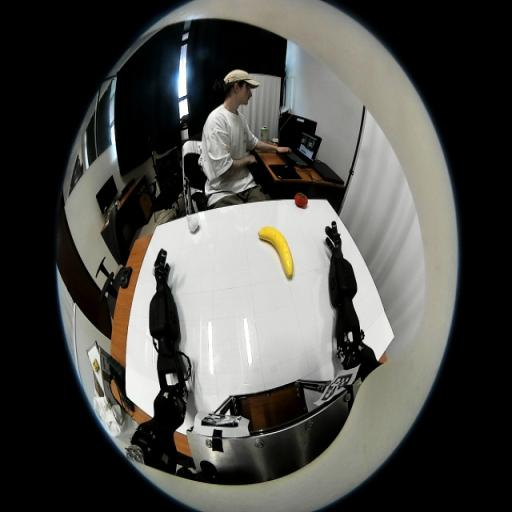Banana: (258, 225, 294, 278)
LeftHand: (154, 267, 168, 283)
Onion: (186, 216, 199, 232)
RightHand: (331, 241, 342, 256)
Tomato: (295, 192, 308, 208)
